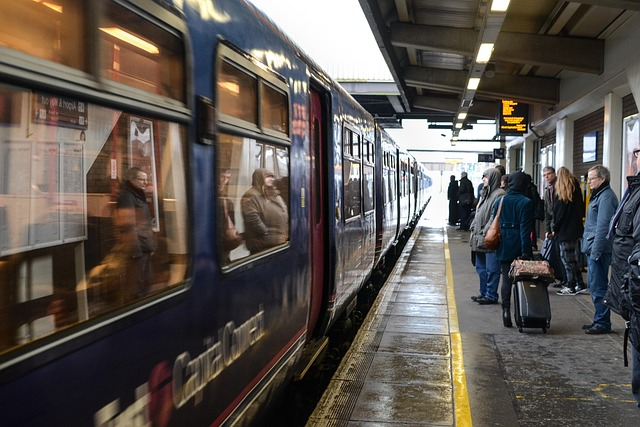train1: (0, 2, 435, 425)
